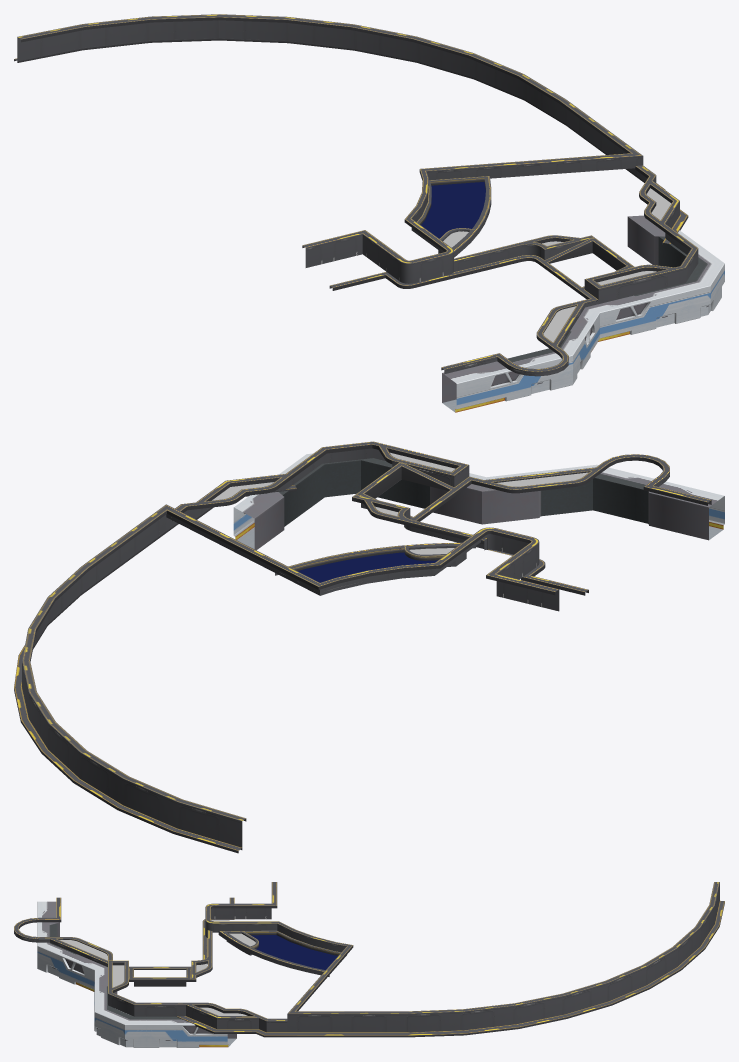
The model's file is mesh_1002_zhucheng_zjz_baobian002.FBX.
3 views of the same model, one above another, from view 1: azimuth 30°, elevation 25°; view 2: azimuth 150°, elevation 25°; view 3: azimuth 270°, elevation 25° (orthographic). The views are drawn at different scales.
Visible parts, largest first — view 1: mesh_1002_zhucheng_zjz_baobian002a, mesh_1002_zhucheng_zjz_baobian002b, mesh_1002_zhucheng_zjz_boli001, mesh_1003_zhucheng_zjz_baobian002c; view 2: mesh_1002_zhucheng_zjz_baobian002a, mesh_1002_zhucheng_zjz_baobian002b, mesh_1002_zhucheng_zjz_boli001, mesh_1003_zhucheng_zjz_baobian002c; view 3: mesh_1002_zhucheng_zjz_baobian002a, mesh_1002_zhucheng_zjz_baobian002b, mesh_1002_zhucheng_zjz_boli001, mesh_1003_zhucheng_zjz_baobian002c.
Part boxes in pixels (x1,y1,x2,y2): mesh_1002_zhucheng_zjz_baobian002a: (17, 14, 698, 376); mesh_1002_zhucheng_zjz_baobian002b: (14, 38, 724, 412); mesh_1002_zhucheng_zjz_boli001: (421, 181, 485, 238); mesh_1003_zhucheng_zjz_baobian002c: (443, 188, 671, 342); mesh_1002_zhucheng_zjz_baobian002a: (22, 441, 711, 847); mesh_1002_zhucheng_zjz_baobian002b: (14, 453, 724, 853); mesh_1002_zhucheng_zjz_boli001: (298, 552, 437, 582); mesh_1003_zhucheng_zjz_baobian002c: (212, 452, 588, 554); mesh_1002_zhucheng_zjz_baobian002a: (14, 882, 719, 1032); mesh_1002_zhucheng_zjz_baobian002b: (37, 900, 724, 1047); mesh_1002_zhucheng_zjz_boli001: (251, 935, 337, 969); mesh_1003_zhucheng_zjz_baobian002c: (59, 933, 255, 1015).
Size of the model in its own units: 3651 by 543 by 8156.
